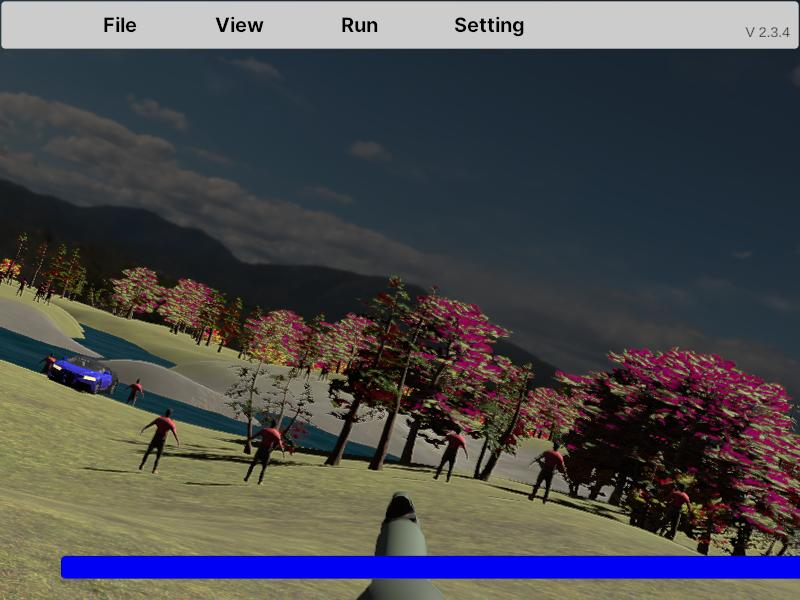Human: (242, 415, 285, 486), (527, 439, 569, 504), (432, 425, 468, 483)
car: (47, 353, 115, 396)
